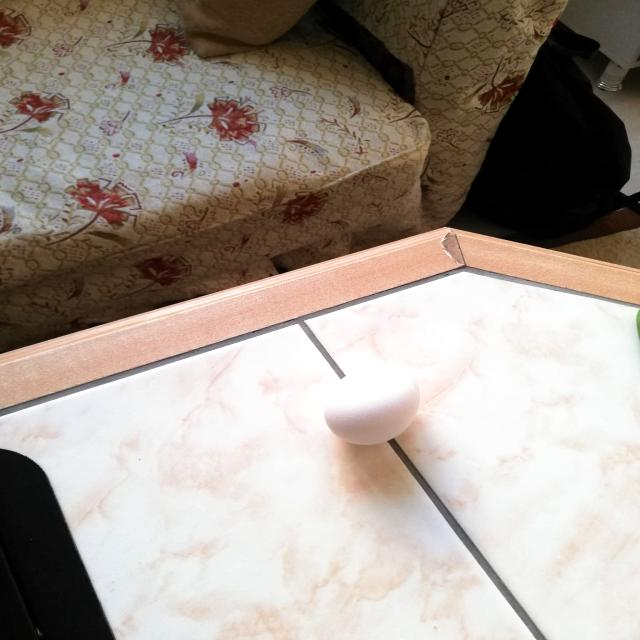egg: (312, 357, 430, 449)
